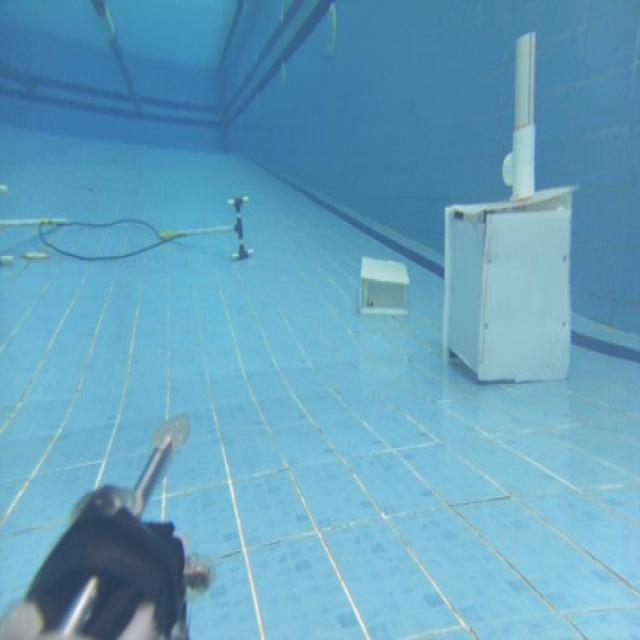Cube: (442, 187, 575, 384)
Cuboid: (359, 254, 410, 316)
